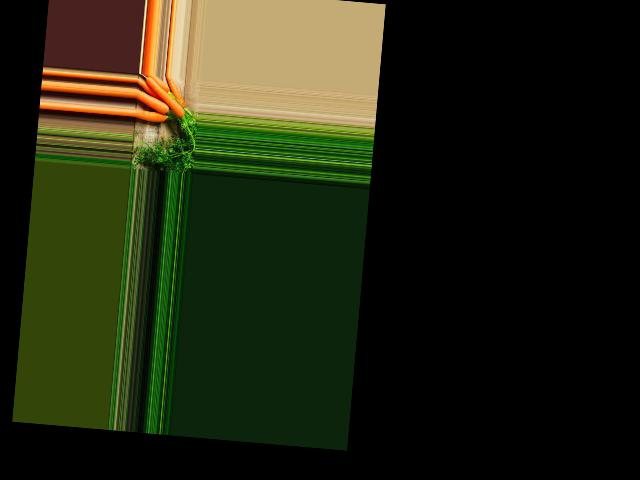carrot: (145, 91, 170, 94)
